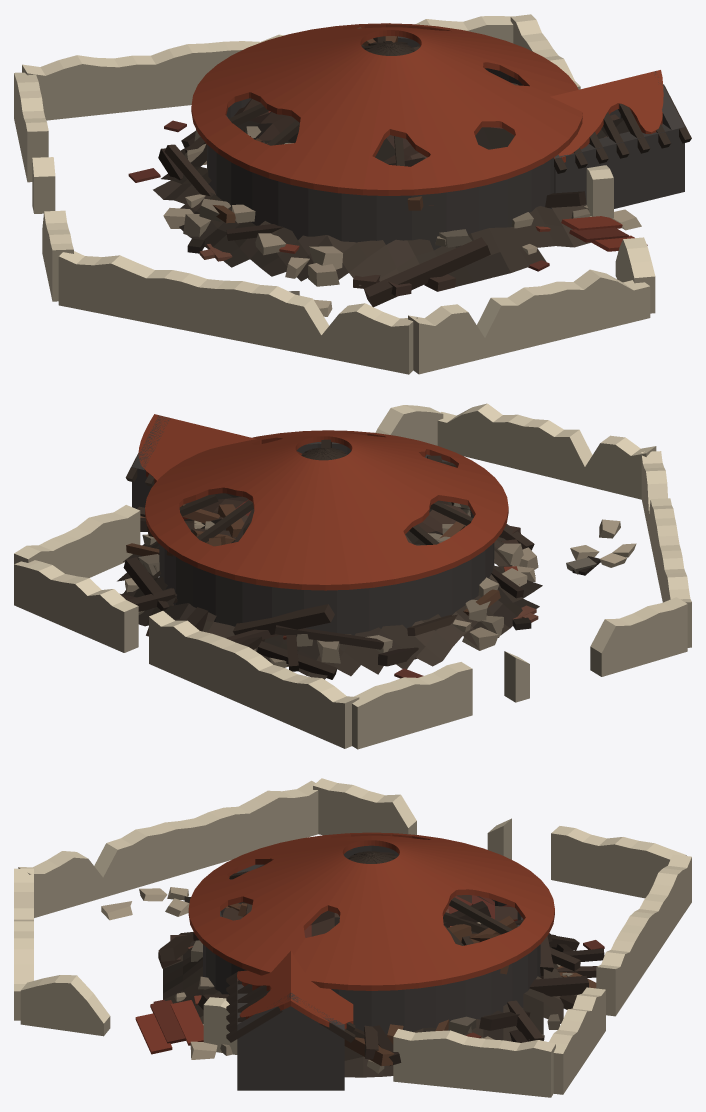
The model's file is VerBuild04a.glb.
The picture shows the model from 3 angles, top to bottom: view 1: azimuth 30°, elevation 25°; view 2: azimuth 150°, elevation 25°; view 3: azimuth 270°, elevation 25°; orthographic projection. The views are drawn at different scales.
Parts seen in each view (by area): view 1: VerBuild04a_roof; view 2: VerBuild04a_roof; view 3: VerBuild04a_roof.
Part boxes in pixels (x1=…): VerBuild04a_roof: x1=14, y1=14, x2=691, y2=374; VerBuild04a_roof: x1=14, y1=403, x2=691, y2=749; VerBuild04a_roof: x1=14, y1=778, x2=691, y2=1097.
Bounding box in the file's own units: 11.39 × 2.9 × 11.99.
